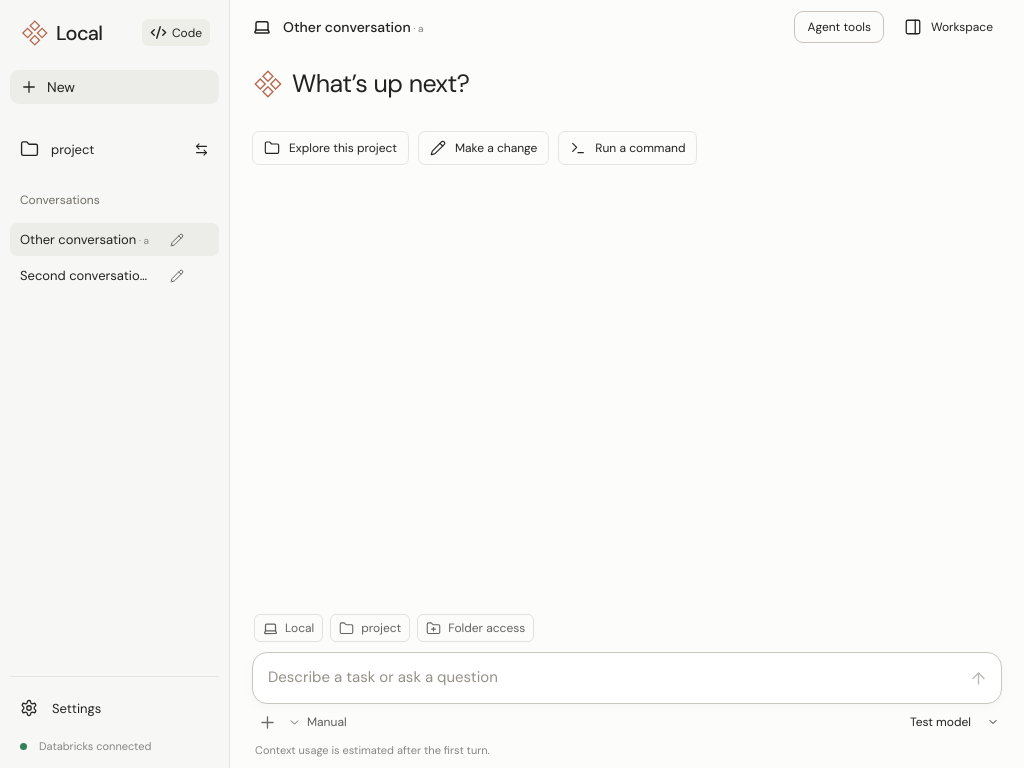
Test: conversation renaming › renames an inactive chat without selecting it or losing the active draft
Expected: the dropdown named "Model" shows "Test model", [905, 709, 1000, 735]
Type "Unsent draft" into the text box named "Message". click: (608, 678)
box: [253, 653, 963, 703]
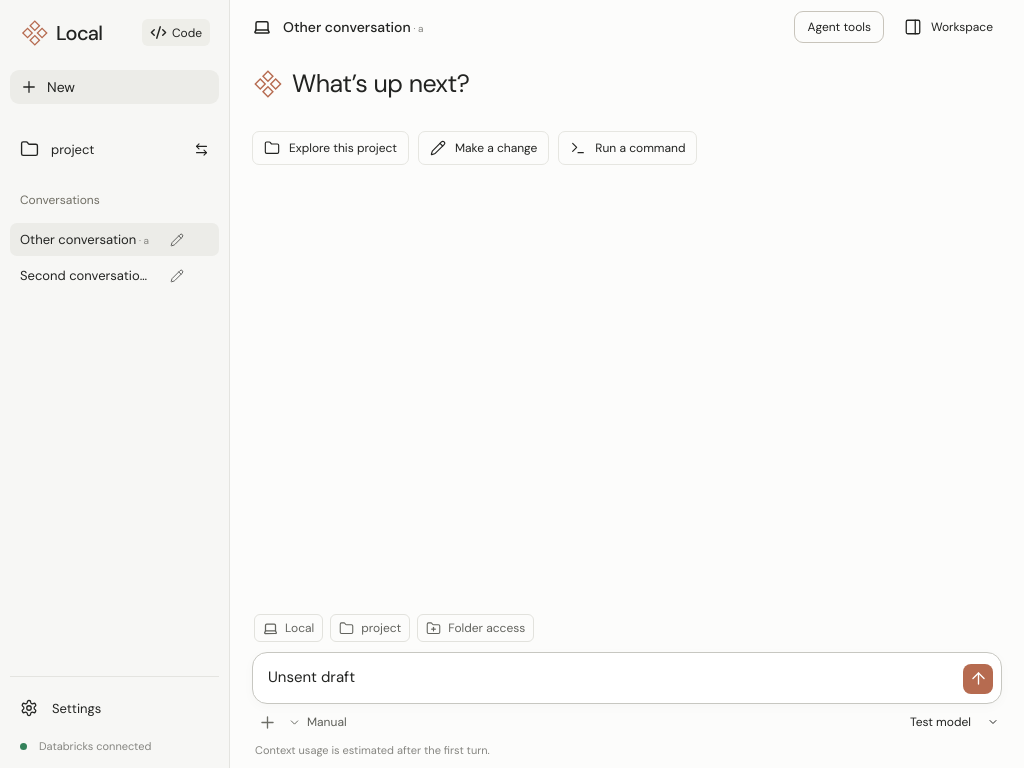
Click the button named "Rename Second conversation". click: (177, 276)
box: [164, 263, 190, 289]
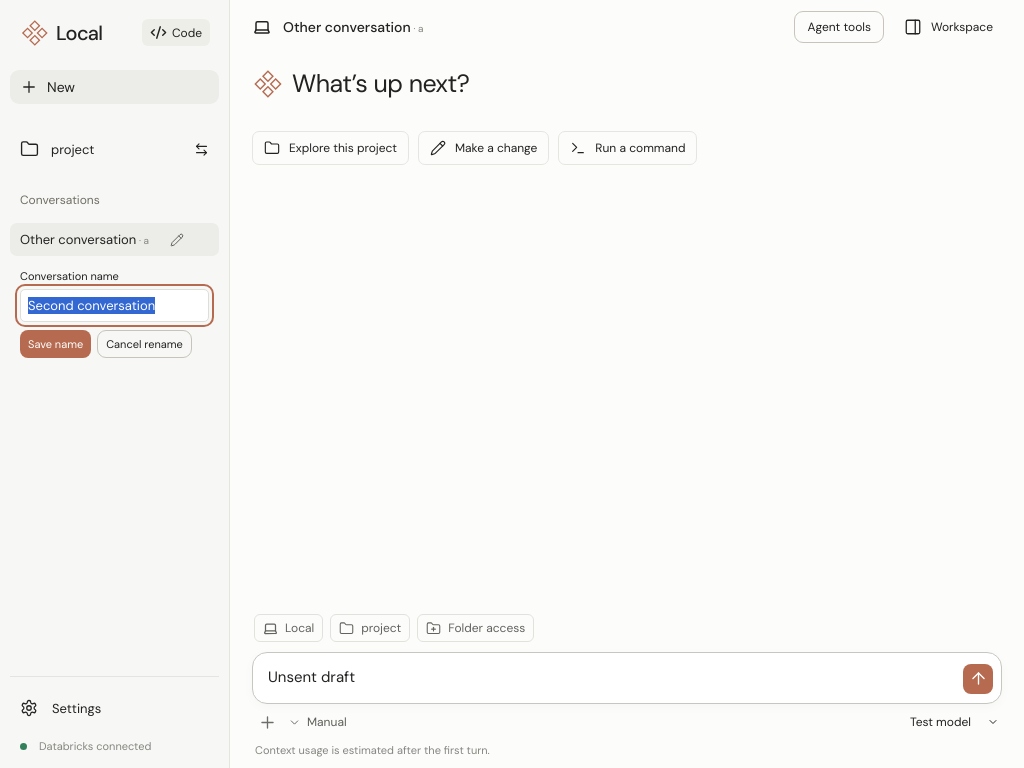
Replace the text in the field labelled "Conversation name" with "Renamed second chat". click: (114, 306)
box: [20, 289, 209, 322]
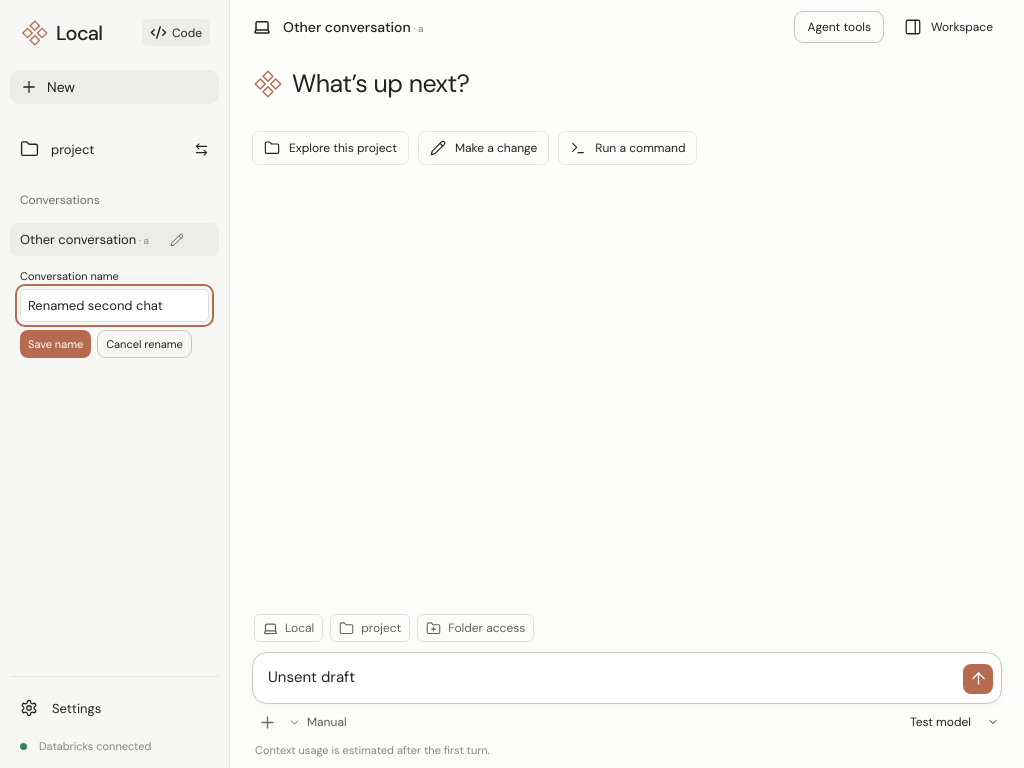
Click the button "Save name". click: (56, 344)
box: [20, 330, 91, 358]
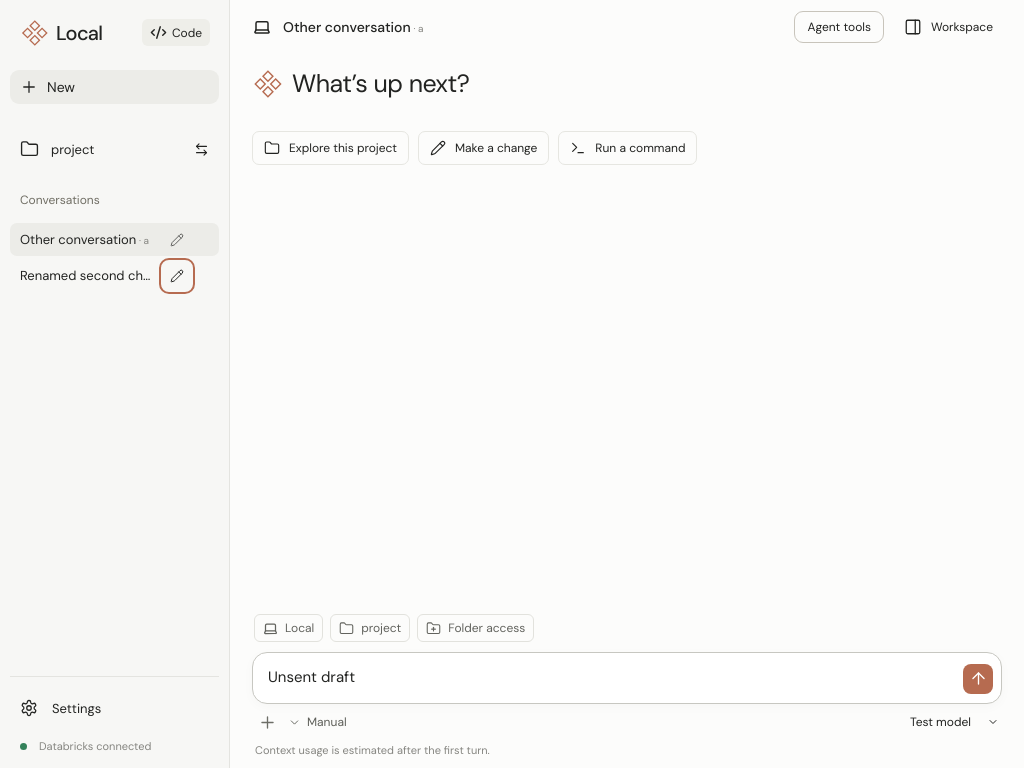
Expected: the 1st text "Other conversation" is shown, [283, 18, 411, 36]
Expected: the button named "Rename Renamed second chat" is shown, [164, 263, 190, 289]
